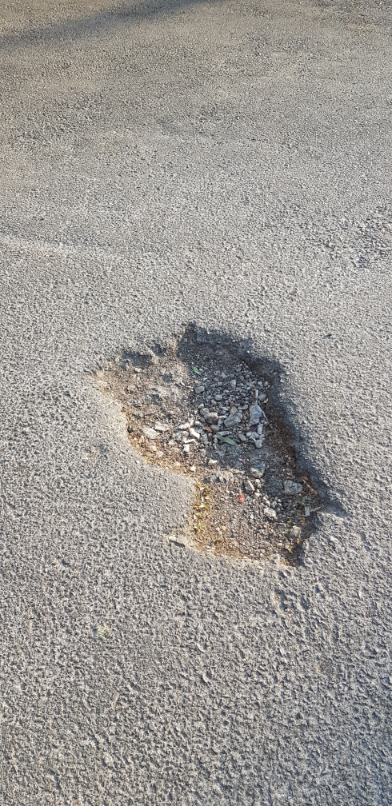pothole: (88, 321, 348, 573)
